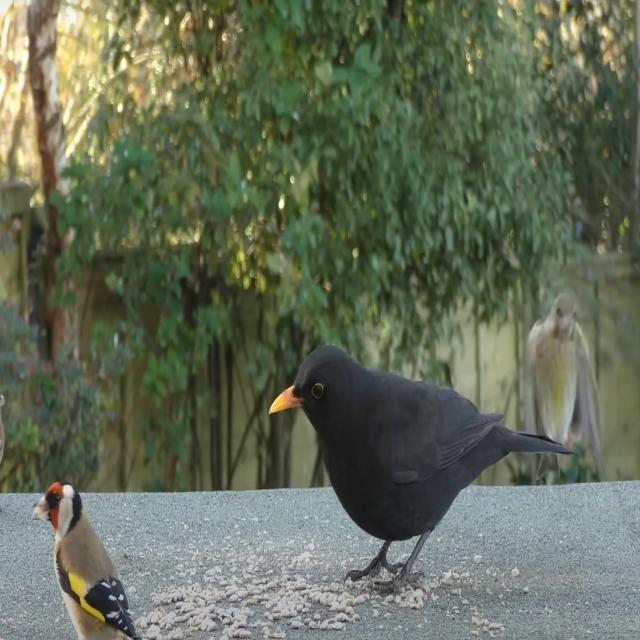beak: (267, 378, 299, 420), (29, 490, 48, 524)
bird: (257, 332, 578, 599), (30, 469, 138, 640), (524, 293, 606, 488)
